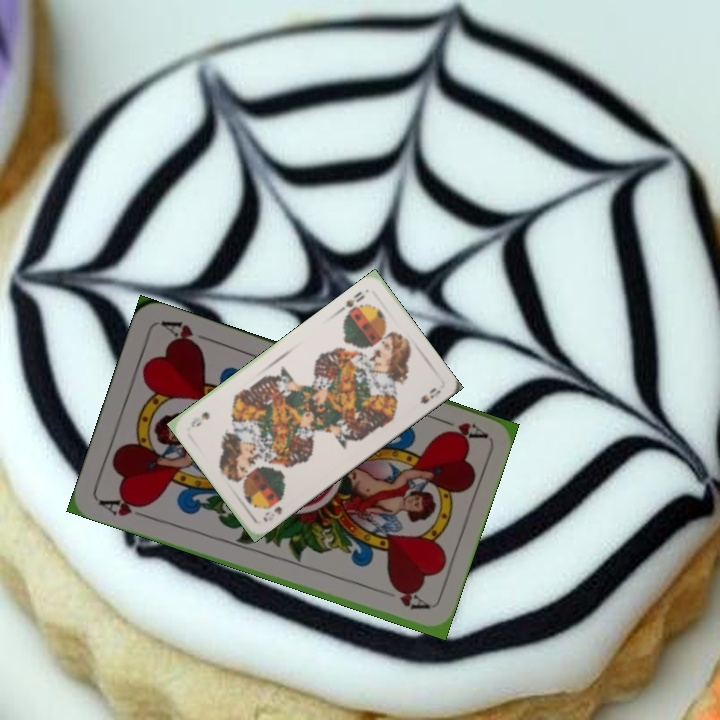HA: (95, 492, 153, 522), (430, 413, 488, 443)
SO: (340, 287, 367, 319), (259, 502, 284, 525)
